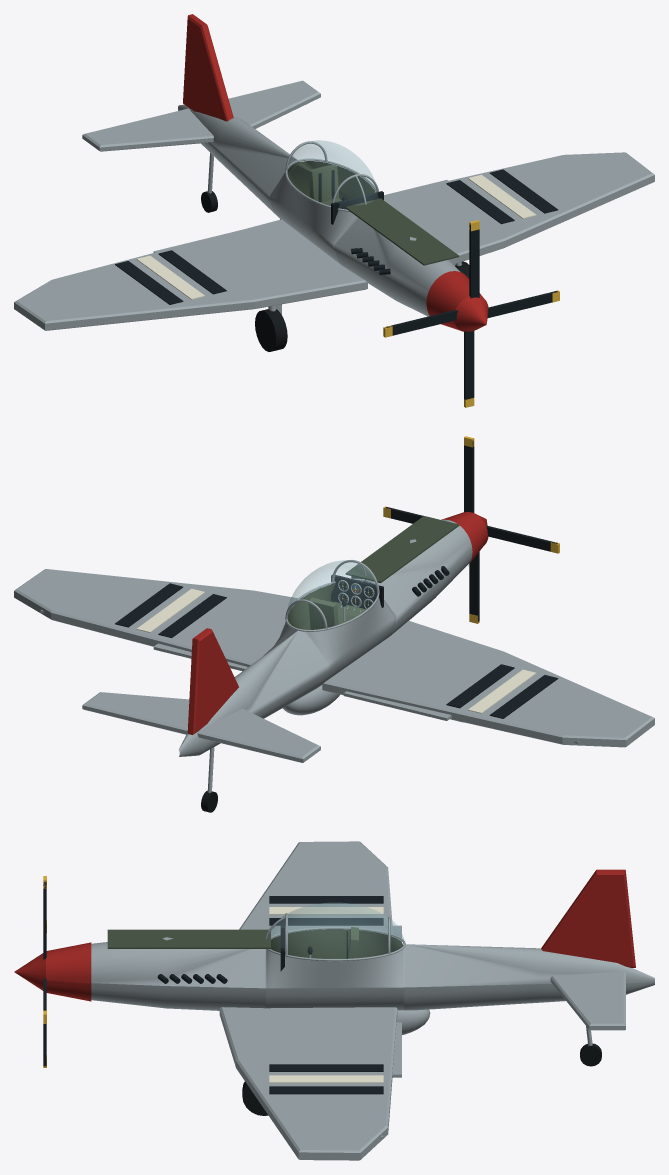
Rendered from source.glb.
3 views of the same model, one above another, from view 1: azimuth 30°, elevation 25°; view 2: azimuth 150°, elevation 25°; view 3: azimuth 270°, elevation 25° (orthographic). The views are drawn at different scales.
Visible parts, largest first — view 1: wing--1, wing-1, fuselage, bubble-canopy, tailplane--1, vertical-fin, blade (×4), anti-glare-panel, tailplane-1, red-engine-cowl, fuselage-interior, main-wheel (+8 smaller); view 2: wing--1, fuselage, wing-1, bubble-canopy, vertical-fin, tailplane--1, tailplane-1, anti-glare-panel, blade (×3), fuselage-interior, red-engine-cowl, ventral-radiator (+9 smaller); view 3: fuselage, wing-1, wing--1, vertical-fin, bubble-canopy, tailplane-1, anti-glare-panel, fuselage-interior, red-engine-cowl, recognition-stripe-1-2, recognition-stripe--1-2, recognition-stripe-1-0 (+6 smaller).
Boxes of the visible parts, x1,y1,x2,y2 form: wing--1: [14, 219, 367, 330]; wing-1: [384, 152, 654, 264]; fuselage: [178, 104, 460, 316]; bubble-canopy: [287, 140, 377, 208]; tailplane--1: [82, 108, 213, 151]; vertical-fin: [183, 14, 233, 121]; blade (×4): [385, 224, 557, 399]; anti-glare-panel: [345, 198, 459, 265]; tailplane-1: [228, 80, 320, 128]; red-engine-cowl: [426, 271, 482, 330]; fuselage-interior: [287, 161, 375, 200]; main-wheel: [255, 309, 287, 351]; wing--1: [322, 621, 654, 747]; fuselage: [179, 519, 472, 756]; wing-1: [14, 569, 297, 666]; bubble-canopy: [287, 560, 377, 629]; vertical-fin: [187, 628, 238, 734]; tailplane--1: [197, 708, 320, 762]; tailplane-1: [82, 692, 189, 734]; anti-glare-panel: [345, 516, 459, 582]; blade (×3): [464, 440, 557, 621]; fuselage-interior: [287, 581, 367, 629]; red-engine-cowl: [441, 512, 487, 565]; ventral-radiator: [282, 685, 340, 715]; fuselage: [91, 937, 654, 1010]; wing-1: [219, 1007, 397, 1160]; wing--1: [239, 841, 393, 939]; vertical-fin: [541, 869, 635, 967]; bubble-canopy: [266, 903, 404, 958]; tailplane-1: [550, 971, 625, 1030]; anti-glare-panel: [107, 929, 270, 948]; fuselage-interior: [271, 929, 403, 958]; red-engine-cowl: [45, 942, 91, 1001]; recognition-stripe-1-2: [269, 1086, 383, 1094]; recognition-stripe--1-2: [269, 896, 383, 903]; recognition-stripe-1-0: [269, 1064, 383, 1071].
Bounding box in the file's own units: 11.27 × 3.3 × 9.82.
